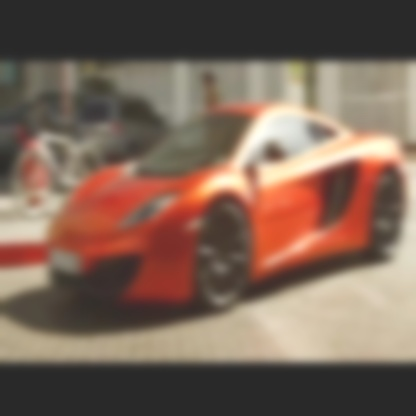Vehicle: (46, 103, 408, 314)
